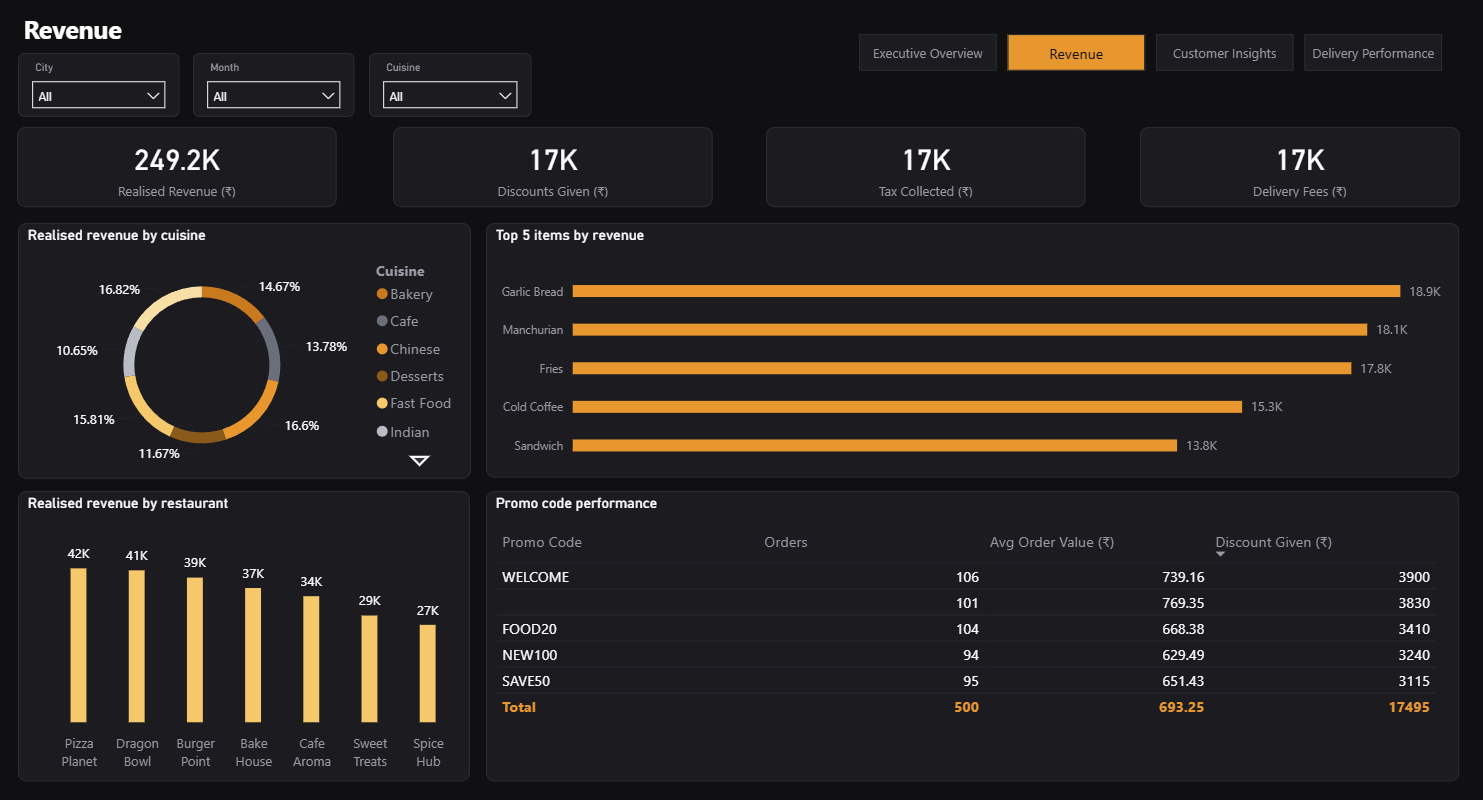

Layout of this report page (visuals, bound fields, positions):
{"tool":"powerbi","page":{"name":"Revenue","canvas":[1380,740],"ordinal":1},"visuals":[{"type":"textbox","box":[20.2,8.1,640,48.4],"z":0},{"type":"donutChart","title":"Realised revenue by cuisine","fields":{"Category":["FOOD DELIVERY ORDERS.Category"],"Y":["Sum(FOOD DELIVERY ORDERS.Total_Amount)"]},"box":[20.6,206.5,418.3,235.8],"z":1000},{"type":"barChart","title":"Top 5 items by revenue","fields":{"Category":["FOOD DELIVERY ORDERS.Item_Name"],"Y":["FOOD DELIVERY ORDERS.Total Revenue"]},"box":[452.1,206.6,897.9,235.4],"z":2000},{"type":"columnChart","title":"Realised revenue by restaurant","fields":{"Category":["FOOD DELIVERY ORDERS.Restaurant_Name"],"Y":["Sum(FOOD DELIVERY ORDERS.Total_Amount)"]},"box":[20.6,454.2,417.3,268.4],"z":3000},{"type":"pageNavigator","box":[796.5,32.6,541.1,34.8],"z":4000},{"type":"slicer","fields":{"Values":["FOOD DELIVERY ORDERS.City"]},"box":[20.6,50,149,59],"z":5000},{"type":"slicer","fields":{"Values":["FOOD DELIVERY ORDERS.Order_Date.Month"]},"box":[181.5,50,148.9,58.7],"z":6000},{"type":"slicer","fields":{"Values":["FOOD DELIVERY ORDERS.Category"]},"box":[344.5,50,150,58.7],"z":7000},{"type":"card","fields":{"Values":["Sum(FOOD DELIVERY ORDERS.Total_Amount)"]},"box":[19.6,118.4,295,74],"z":8000},{"type":"card","fields":{"Values":["Sum(FOOD DELIVERY ORDERS.Discount)"]},"box":[366.2,118.4,295,74],"z":9000},{"type":"card","fields":{"Values":["Sum(FOOD DELIVERY ORDERS.Tax)"]},"box":[710.6,118.4,295,74],"z":10000},{"type":"card","fields":{"Values":["Sum(FOOD DELIVERY ORDERS.Delivery_Fee)"]},"box":[1055.1,118.4,295,74],"z":11000},{"type":"tableEx","title":"Promo code performance","fields":{"Values":["FOOD DELIVERY ORDERS.Promo_Code","FOOD DELIVERY ORDERS.Total Orders","FOOD DELIVERY ORDERS.Average Order Value","Sum(FOOD DELIVERY ORDERS.Discount)"]},"box":[452,454.2,897.5,268.4],"z":12000}]}

Visuals, with their boxes in screenshot pixels (x1, y1, x2, y2), scaled from the page's 1380x740 canvas onto the 1483x800 screenshot:
textbox: 22 9 709 61
"Realised revenue by cuisine" donutChart: 22 223 472 478
"Top 5 items by revenue" barChart: 486 223 1451 478
"Realised revenue by restaurant" columnChart: 22 491 471 781
pageNavigator: 856 35 1437 73
slicer - FOOD DELIVERY ORDERS.City: 22 54 182 118
slicer - FOOD DELIVERY ORDERS.Order_Date.Month: 195 54 355 118
slicer - FOOD DELIVERY ORDERS.Category: 370 54 531 118
card - Sum(FOOD DELIVERY ORDERS.Total_Amount): 21 128 338 208
card - Sum(FOOD DELIVERY ORDERS.Discount): 394 128 711 208
card - Sum(FOOD DELIVERY ORDERS.Tax): 764 128 1081 208
card - Sum(FOOD DELIVERY ORDERS.Delivery_Fee): 1134 128 1451 208
"Promo code performance" tableEx: 486 491 1450 781
